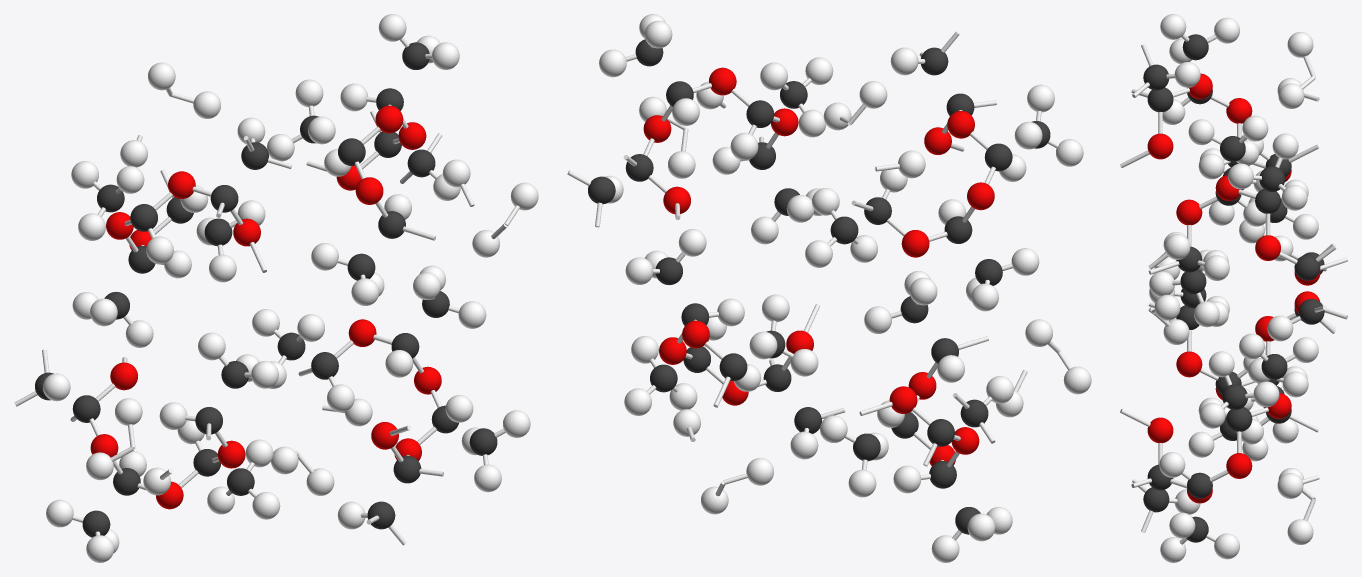
File: structure_mpstyle.glb
3 renders of one model, left to right at view 1: azimuth 30°, elevation 25°; view 2: azimuth 150°, elevation 25°; view 3: azimuth 270°, elevation 25°, orthographic. The views are drawn at different scales.
Parts seen in each view (by area): view 1: world; view 2: world; view 3: world.
Part boxes in pixels (bbox=[...]): world: bbox=[14, 14, 538, 562]; world: bbox=[567, 14, 1091, 562]; world: bbox=[1120, 14, 1347, 562].
Bounding box in the file's own units: 14.92 × 14.92 × 7.03.
